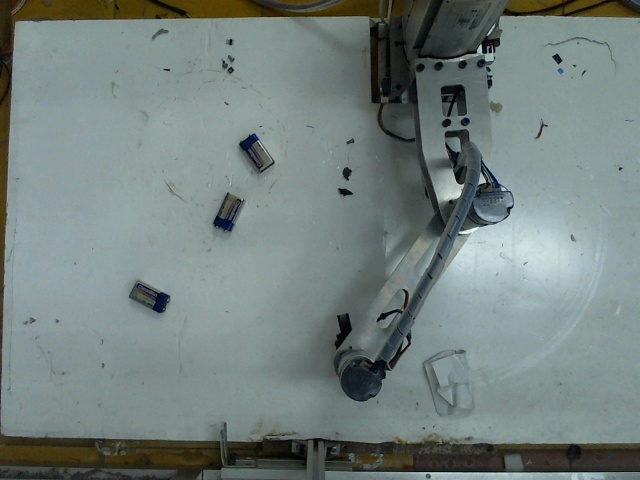battery: (124, 274, 174, 310), (238, 129, 274, 175), (207, 187, 242, 229)
